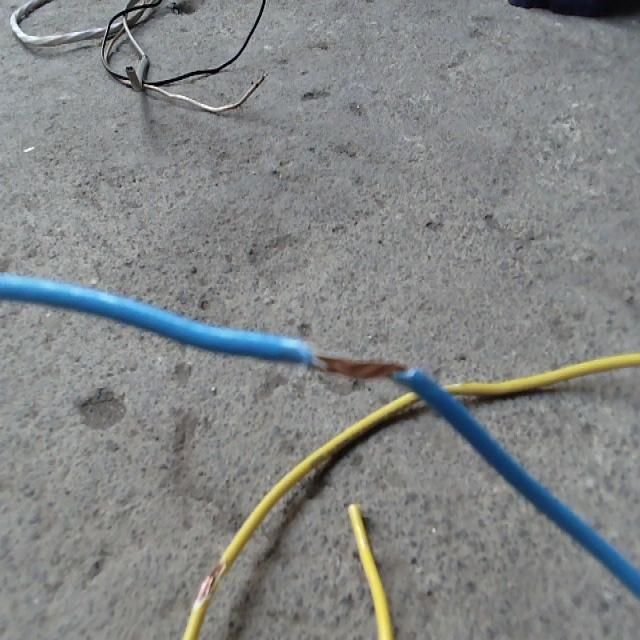-: (305, 348, 411, 384), (194, 560, 226, 601)
